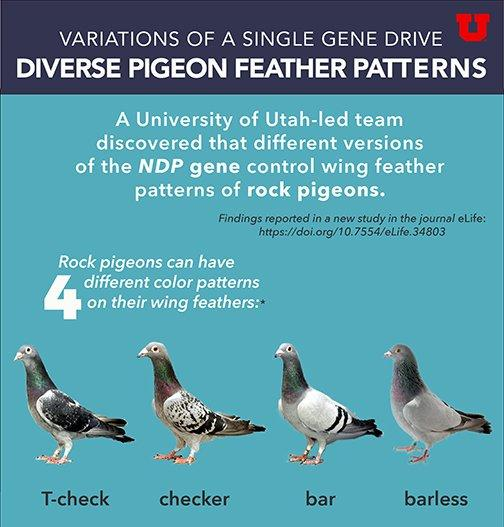Flying Rat: (386, 337, 493, 475), (136, 335, 246, 469), (16, 344, 124, 476), (276, 343, 374, 475)
